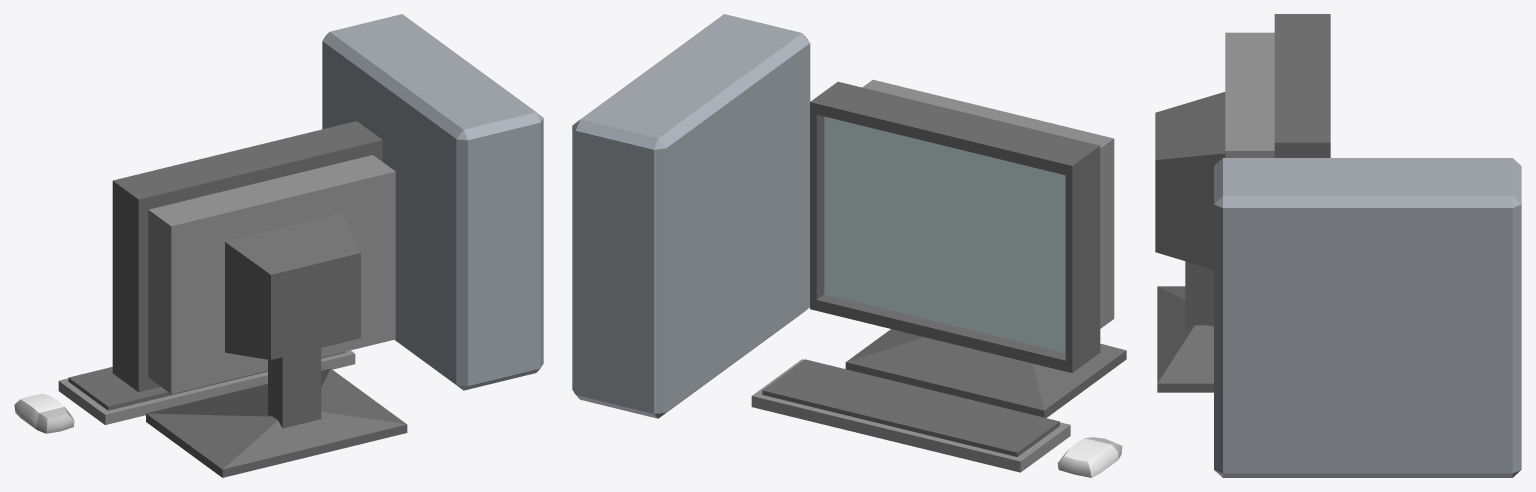
Rendered from Computer lv2.fbx.
3 views of the same model, side by side, from view 1: azimuth 30°, elevation 25°; view 2: azimuth 150°, elevation 25°; view 3: azimuth 270°, elevation 25° (orthographic). The views are drawn at different scales.
Parts seen in each view (by area): view 1: Computer_lv2; view 2: Computer_lv2; view 3: Computer_lv2.
Boxes of the visible parts, <box> form: Computer_lv2: <box>14,14,543,477</box>; Computer_lv2: <box>572,14,1126,477</box>; Computer_lv2: <box>1155,14,1521,477</box>.
Size of the model in its own units: 172 by 97.38 by 115.
